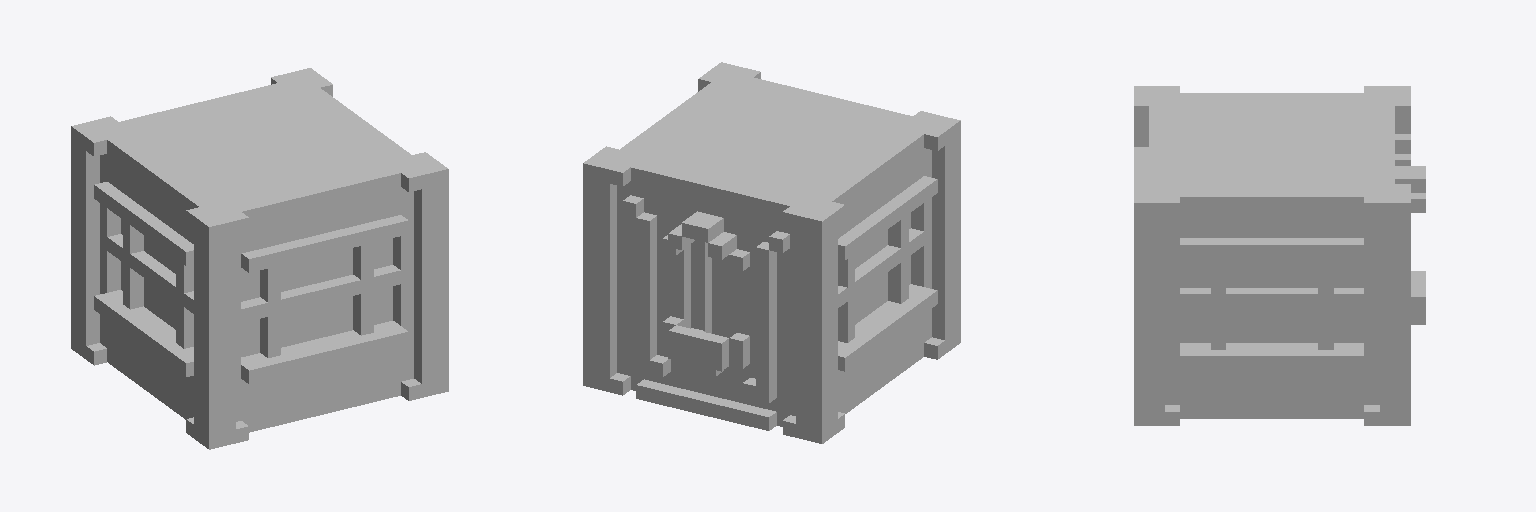
The model's file is OneBalcony Directional Layer.obj.
3 views of the same model, side by side, from view 1: azimuth 30°, elevation 25°; view 2: azimuth 150°, elevation 25°; view 3: azimuth 270°, elevation 25° (orthographic).
Visible parts, largest first — view 1: OneBalcony Directional Layer; view 2: OneBalcony Directional Layer; view 3: OneBalcony Directional Layer.
Part boxes in pixels (x1,y1,x2,y2): OneBalcony Directional Layer: (71,68,448,449); OneBalcony Directional Layer: (583,62,960,443); OneBalcony Directional Layer: (1134,86,1425,425).
Bounding box in the file's own units: 1.12 × 1 × 1.19.